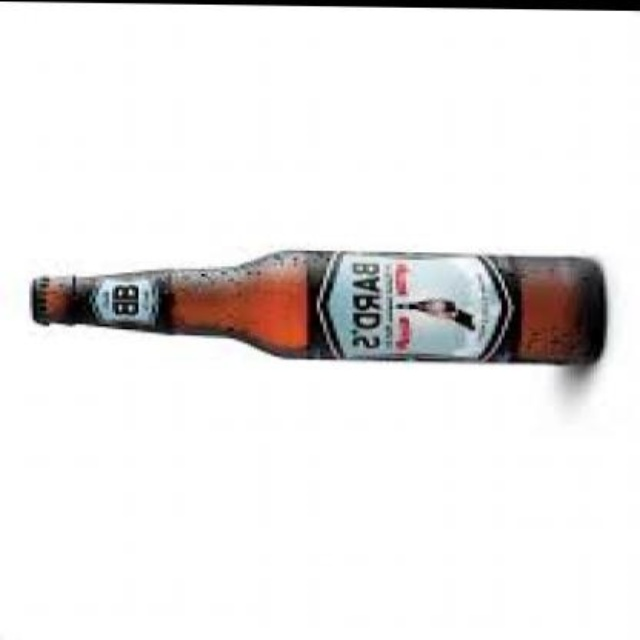trash: (31, 251, 605, 363)
